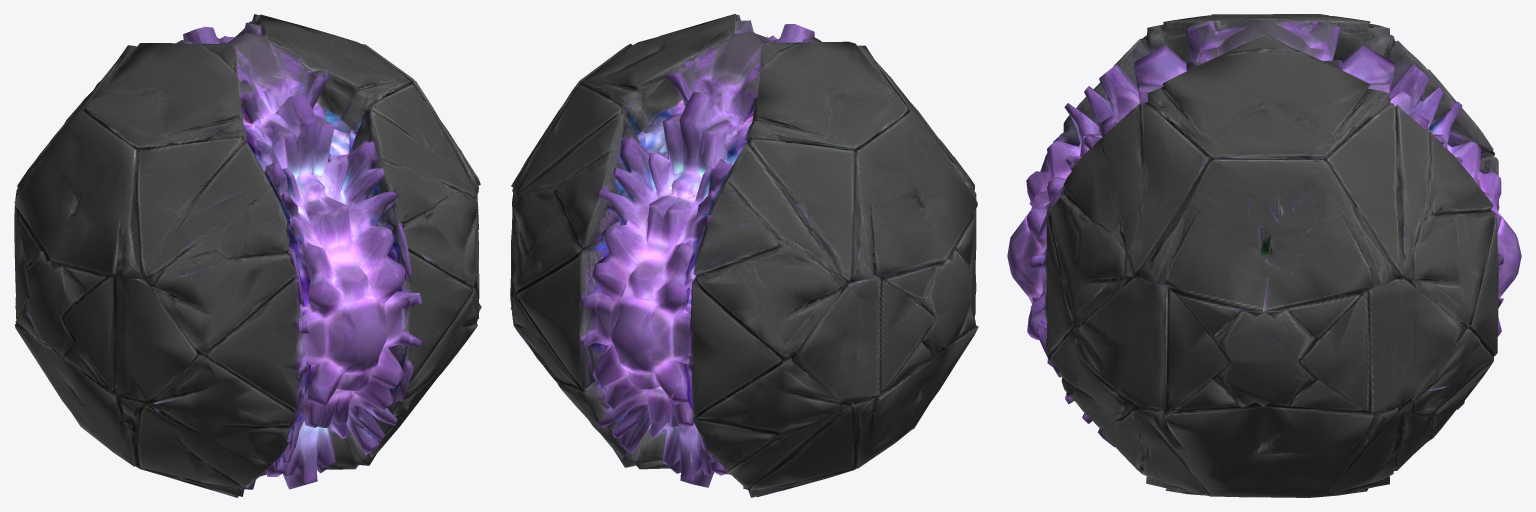
The model's file is hero-core.glb.
3 views of the same model, side by side, from view 1: azimuth 30°, elevation 25°; view 2: azimuth 150°, elevation 25°; view 3: azimuth 270°, elevation 25° (orthographic). The views are drawn at different scales.
Visible parts, largest first — view 1: Mesh_0; view 2: Mesh_0; view 3: Mesh_0.
Part boxes in pixels (box(x1,y1,x2,y2)): Mesh_0: box(14, 14, 481, 497); Mesh_0: box(510, 14, 978, 497); Mesh_0: box(1007, 14, 1521, 497).
Size of the model in its own units: 1.86 by 1.9 by 1.89.
Materials: 1 (1 with a texture image).
